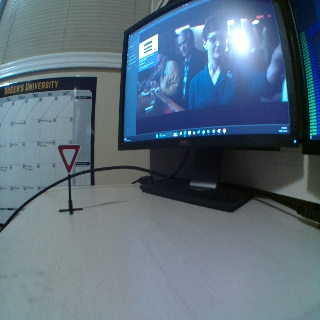sign_yield: (56, 144, 80, 172)
